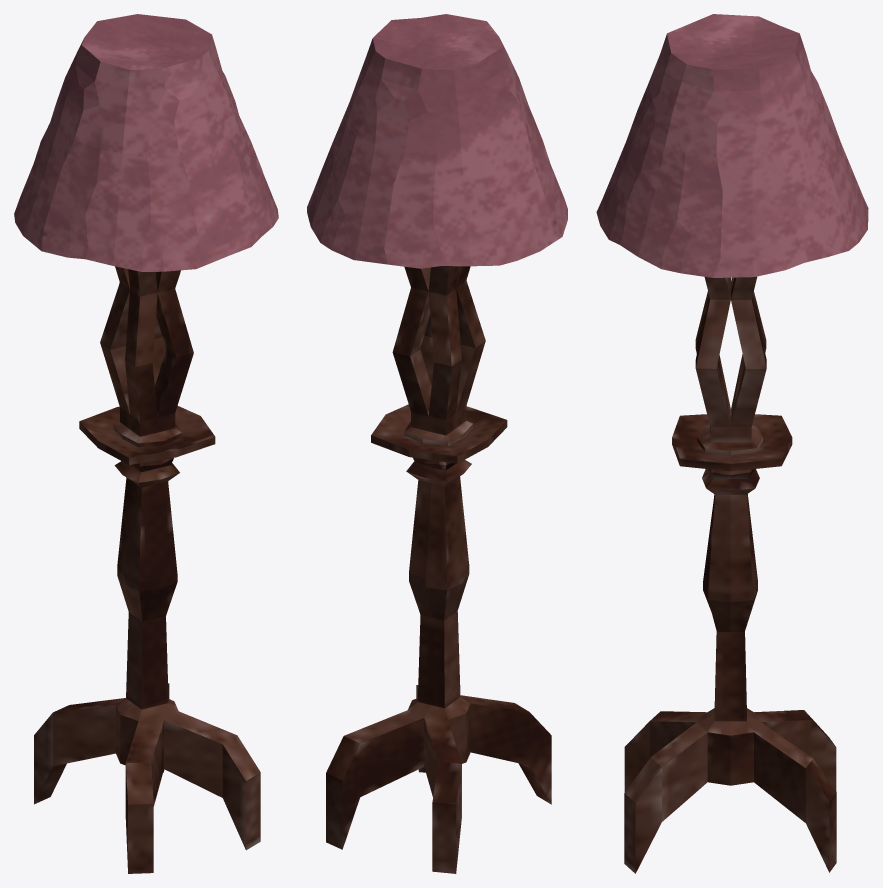
Rendered from Lamp.fbx.
3 views of the same model, side by side, from view 1: azimuth 30°, elevation 25°; view 2: azimuth 150°, elevation 25°; view 3: azimuth 270°, elevation 25° (orthographic). The views are drawn at different scales.
Parts seen in each view (by area): view 1: Cylinder, Cube; view 2: Cylinder, Cube; view 3: Cylinder, Cube.
Part boxes in pixels (<box>): Cylinder: <box>14,14,278,271</box>; Cube: <box>34,266,260,873</box>; Cylinder: <box>307,14,567,268</box>; Cube: <box>326,266,551,873</box>; Cylinder: <box>596,14,868,277</box>; Cube: <box>624,276,836,873</box>.
Size of the model in its own units: 404 by 1312 by 405.
Materials: 3 (3 with a texture image).
